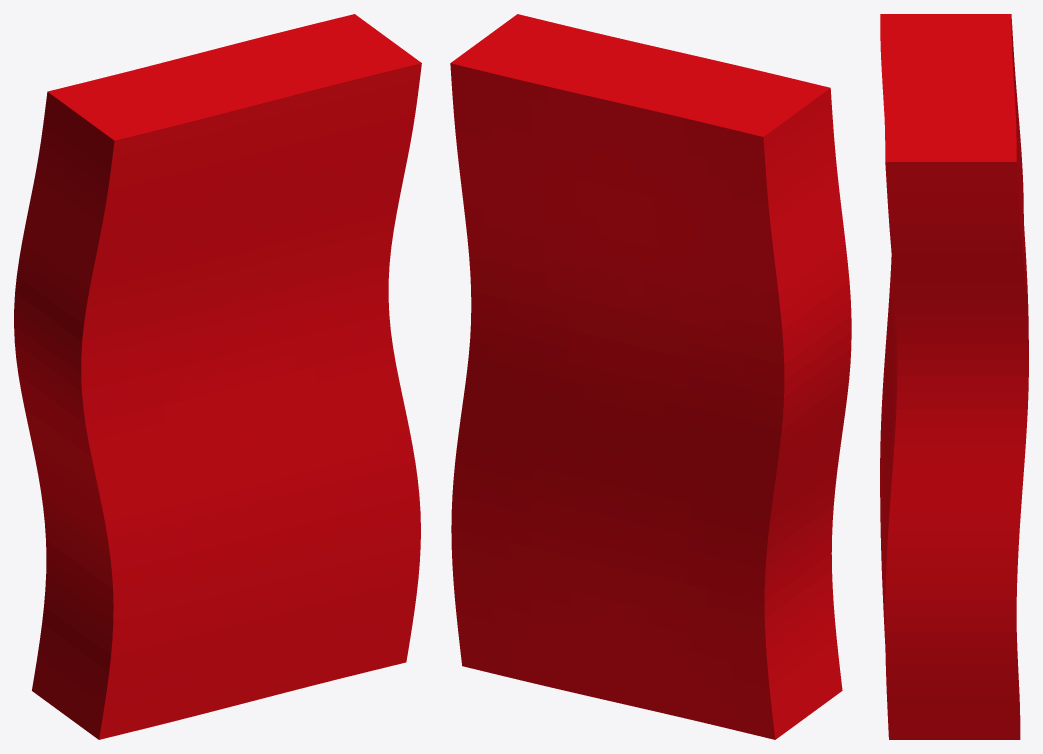
File: Door.fbx
The picture shows the model from 3 angles, left to right: view 1: azimuth 30°, elevation 25°; view 2: azimuth 150°, elevation 25°; view 3: azimuth 270°, elevation 25°; orthographic projection. The views are drawn at different scales.
Parts seen in each view (by area): view 1: Door; view 2: Door; view 3: Door.
Part boxes in pixels (x1,y1,x2,y2): Door: (14,14,421,739); Door: (450,14,851,739); Door: (880,14,1028,739).
Size of the model in its own units: 580 by 982 by 227.
